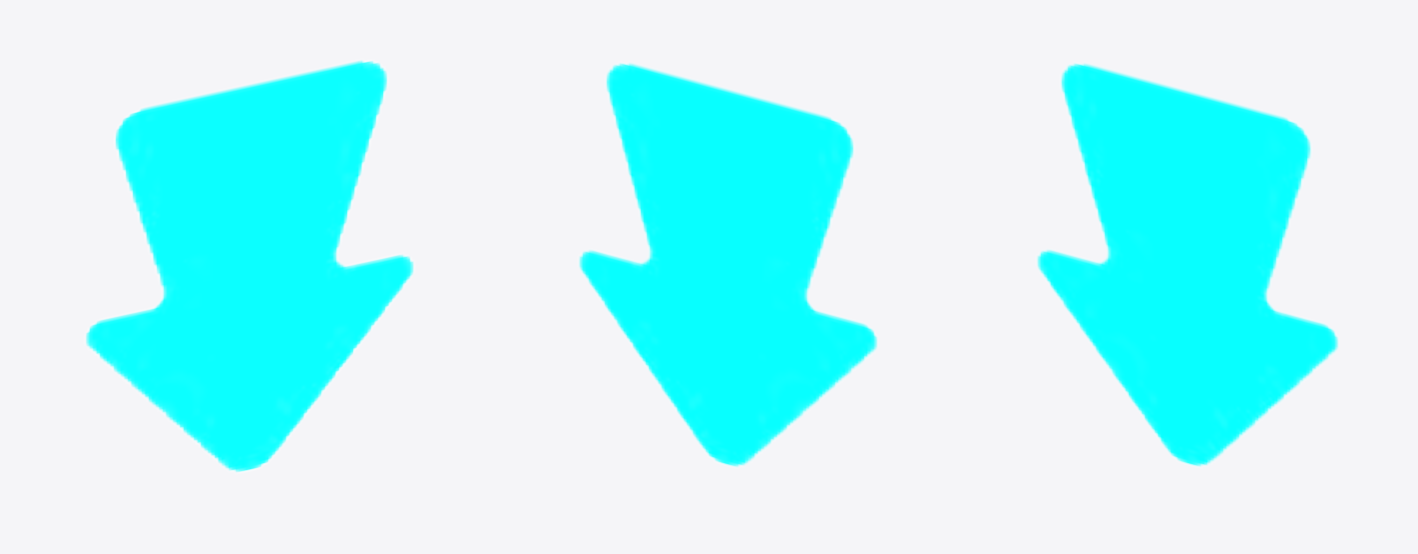
The model's file is hitbox_down.glb.
3 renders of one model, left to right at view 1: azimuth 30°, elevation 25°; view 2: azimuth 150°, elevation 25°; view 3: azimuth 330°, elevation 25°, orthographic. The views are drawn at different scales.
Parts seen in each view (by area): view 1: Plane.003; view 2: Plane.003; view 3: Plane.003.
Boxes of the visible parts, bbox=[...] form: Plane.003: bbox=[84, 59, 415, 473]; Plane.003: bbox=[578, 62, 878, 467]; Plane.003: bbox=[1036, 62, 1339, 467].
Size of the model in its own units: 0.1177 by 0.1051 by 0.00702.
Materials: 1 (1 with a texture image).
